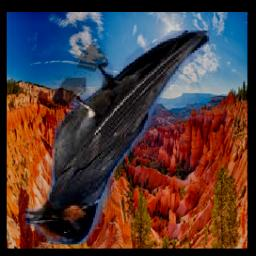Swallow: (25, 30, 212, 245)
